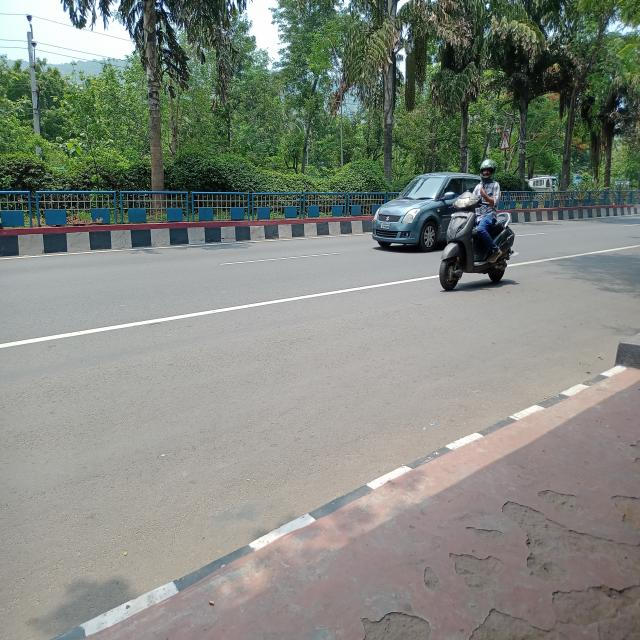bike: (435, 188, 532, 298)
car: (370, 159, 458, 249)
